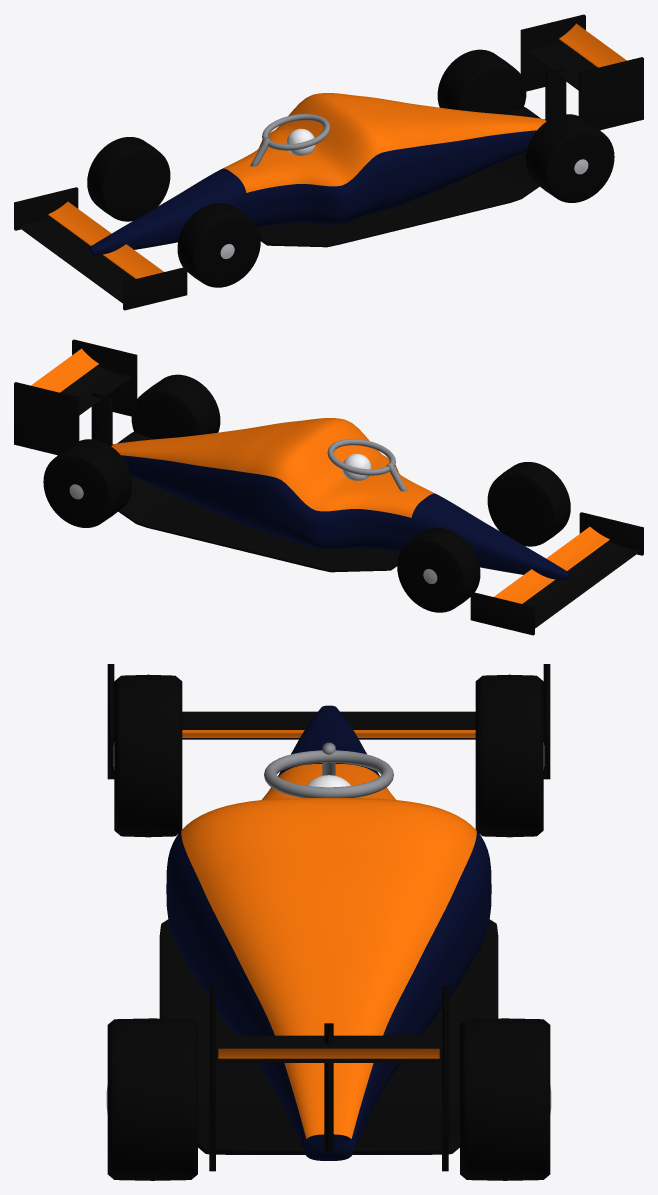
File: f1_car.light.glb
The picture shows the model from 3 angles, top to bottom: view 1: azimuth 30°, elevation 25°; view 2: azimuth 150°, elevation 25°; view 3: azimuth 270°, elevation 25°; orthographic projection. The views are drawn at different scales.
Visible parts, largest first — view 1: body_f1_livery__f1_livery, body_f1_livery__f1_accent, floor, wheel_rr_tyre, wheel_fl_tyre, wheel_fr_tyre, wheel_rl_tyre, rear_wing_2, front_wing_0, front_wing_1, rear_wing_3, front_wing_2 (+6 smaller); view 2: body_f1_livery__f1_livery, body_f1_livery__f1_accent, floor, wheel_rl_tyre, wheel_fr_tyre, wheel_fl_tyre, wheel_rr_tyre, rear_wing_3, front_wing_0, front_wing_1, rear_wing_2, front_wing_3 (+6 smaller); view 3: body_f1_livery__f1_accent, floor, body_f1_livery__f1_livery, wheel_rl_tyre, wheel_rr_tyre, wheel_fl_tyre, wheel_fr_tyre, front_wing_0, rear_wing_0, halo, rear_wing_1, front_wing_1 (+5 smaller).
Part boxes in pixels (x1,y1,x2,y2): body_f1_livery__f1_livery: (88,130,536,255); body_f1_livery__f1_accent: (223,93,546,192); floor: (258,107,540,247); wheel_rr_tyre: (525,114,614,202); wheel_fl_tyre: (87,137,170,221); wheel_fr_tyre: (177,203,260,287); wheel_rl_tyre: (437,49,526,114); rear_wing_2: (578,57,643,130); front_wing_0: (17,216,134,303); front_wing_1: (48,201,163,278); rear_wing_3: (520,14,585,92); front_wing_2: (123,267,187,310); body_f1_livery__f1_livery: (121,455,569,580); body_f1_livery__f1_accent: (111,418,434,517); floor: (117,432,399,572); wheel_rl_tyre: (43,439,132,527); wheel_fr_tyre: (487,462,570,546); wheel_fl_tyre: (397,528,480,612); wheel_rr_tyre: (131,374,220,439); rear_wing_3: (14,382,79,455); front_wing_0: (523,541,640,628); front_wing_1: (494,526,609,603); rear_wing_2: (72,339,137,417); front_wing_3: (470,592,534,635); body_f1_livery__f1_accent: (181,764,476,1138); floor: (159,919,498,1154); body_f1_livery__f1_livery: (166,705,491,1160); wheel_rl_tyre: (460,1018,550,1180); wheel_rr_tyre: (107,1018,197,1180); wheel_fl_tyre: (475,674,543,837); wheel_fr_tyre: (114,674,182,837); front_wing_0: (182,711,475,739); rear_wing_0: (216,1035,441,1062); halo: (264,750,393,797); rear_wing_1: (218,1048,439,1058); front_wing_1: (182,730,475,737).
Size of the model in its own units: 5.57 by 1.03 by 1.97.
